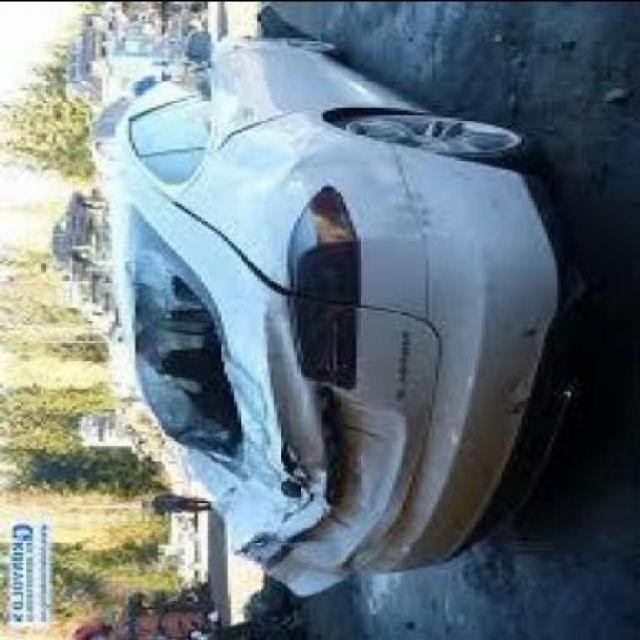damage: (134, 236, 418, 596)
